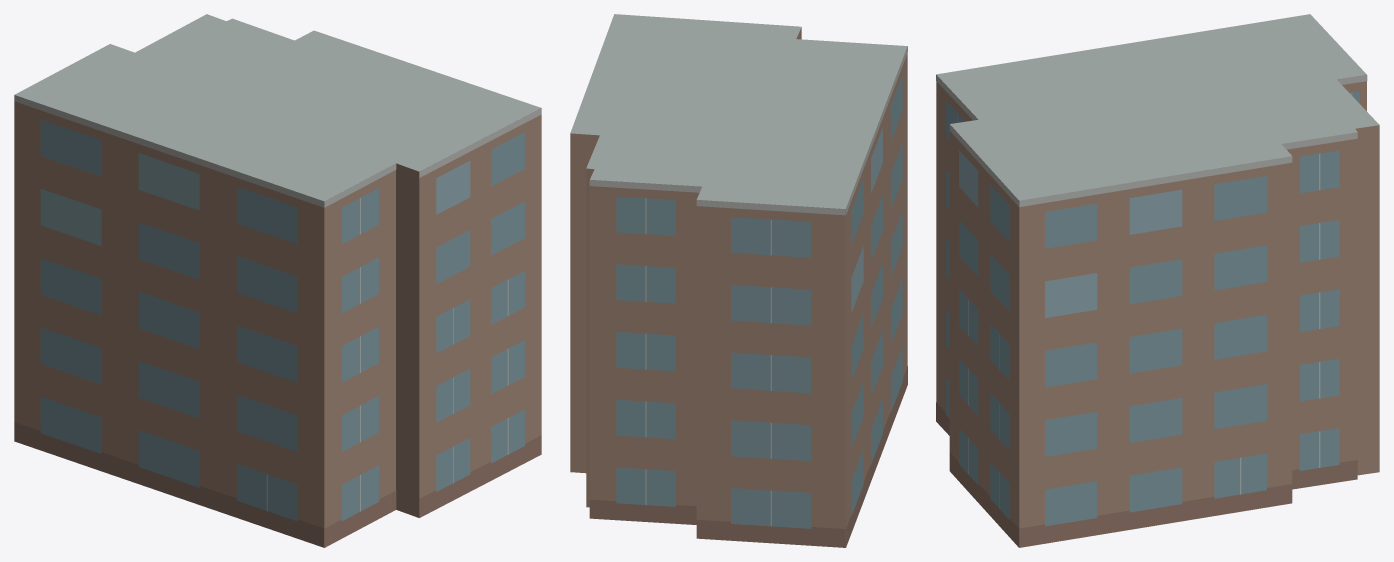
Rendered from survey-upis-32581554.glb.
The picture shows the model from 3 angles, left to right: view 1: azimuth 30°, elevation 25°; view 2: azimuth 150°, elevation 25°; view 3: azimuth 270°, elevation 25°; orthographic projection. The views are drawn at different scales.
Visible parts, largest first — view 1: survey-upis-32581554.tmp; view 2: survey-upis-32581554.tmp; view 3: survey-upis-32581554.tmp.
Boxes of the visible parts, x1=… form: survey-upis-32581554.tmp: x1=14, y1=14, x2=541, y2=547; survey-upis-32581554.tmp: x1=570, y1=14, x2=907, y2=547; survey-upis-32581554.tmp: x1=936, y1=14, x2=1379, y2=547.
Bounding box in the file's own units: 15.25 × 13.2 × 15.3.
